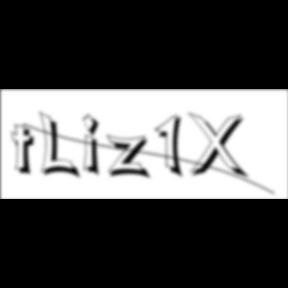1: (154, 114, 189, 182)
L: (39, 110, 83, 182)
X: (187, 112, 251, 182)
i: (83, 112, 107, 180)
t: (12, 124, 42, 179)
z: (106, 134, 156, 182)
